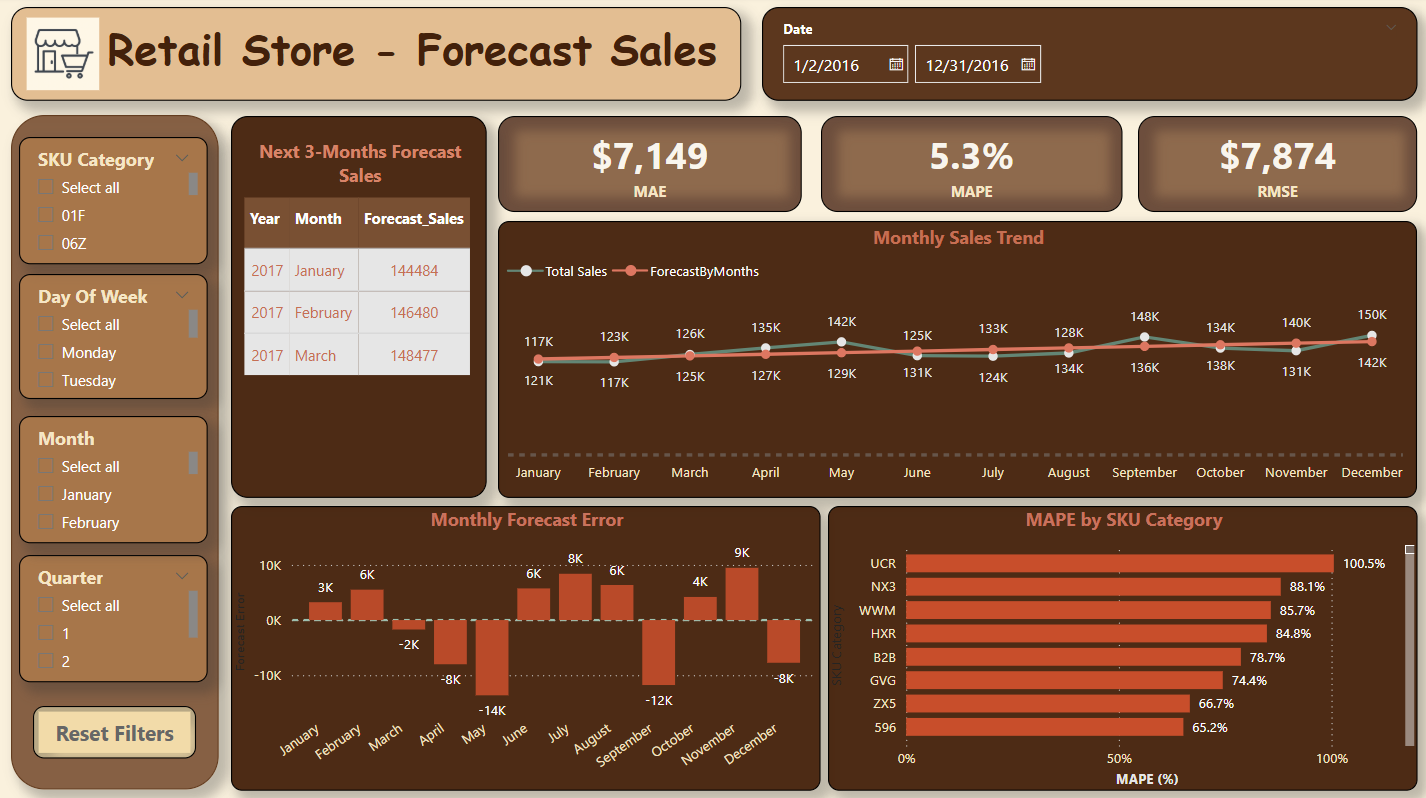

Layout of this report page (visuals, bound fields, positions):
{"tool":"powerbi","page":{"name":"Forecast Sales","canvas":[1280,720],"ordinal":1},"visuals":[{"type":"textbox","box":[11,9,654,84],"z":0},{"type":"card","fields":{"Values":["Retail_Sales.MAPE"]},"box":[736.1,106.6,269.6,86],"z":2000},{"type":"card","fields":{"Values":["Retail_Sales.MAE"]},"box":[446.9,106.6,272.2,86],"z":3000},{"type":"shape","box":[11,106,186,604],"z":4000},{"type":"slicer","fields":{"Values":["Retail_Sales.Date"]},"box":[683,9,587,84],"z":5000},{"type":"tableEx","title":"Next 3-Months Forecast Sales","fields":{"Values":["ForecastTable.Date.Variation.Date Hierarchy.Year","ForecastTable.Date.Variation.Date Hierarchy.Month","ForecastTable.Forecast_Sales"]},"box":[207.8,106.6,229.3,342.1],"z":6000},{"type":"lineChart","title":"Monthly Sales Trend","fields":{"Y":["Retail_Sales.Total Sales","ForecastTable.ForecastByMonths"],"Category":["Retail_Sales.MonthNames"]},"box":[447.2,200.5,822.8,247.7],"z":7000},{"type":"clusteredColumnChart","title":"Monthly Forecast Error","fields":{"Category":["Retail_Sales.MonthNames"],"Y":["Retail_Sales.Forecast Error"]},"box":[207.7,455.4,528,254.9],"z":8000},{"type":"slicer","fields":{"Values":["Retail_Sales.SKU Category"]},"box":[18,125,169,114],"z":9000},{"type":"slicer","fields":{"Values":["Retail_Sales.DayOfWeekName"]},"box":[18,248,169,112],"z":10000},{"type":"slicer","fields":{"Values":["Retail_Sales.Quarter"]},"box":[18,500,169,114],"z":11000},{"type":"slicer","fields":{"Values":["Retail_Sales.MonthNames"]},"box":[18,375,169,114],"z":12000},{"type":"actionButton","title":"Reset Filters","box":[30,635,146,47],"z":13000},{"type":"image","box":[11,13,92,75],"z":14000},{"type":"card","fields":{"Values":["Retail_Sales.RMSE"]},"box":[1020,106.6,249.9,86],"z":15000},{"type":"clusteredBarChart","title":"MAPE by SKU Category","fields":{"Category":["Retail_Sales.SKU Category"],"Y":["Retail_Sales.CategoryMAPE"]},"box":[742.1,455.4,528,254.9],"z":16000}]}

Visuals, with their boxes in screenshot pixels (x1, y1, x2, y2), scaled from the page's 1280x720 canvas onto the 1426x798 screenshot:
textbox: 12 10 741 103
card - Retail_Sales.MAPE: 820 118 1120 213
card - Retail_Sales.MAE: 498 118 801 213
shape: 12 117 219 787
slicer - Retail_Sales.Date: 761 10 1415 103
"Next 3-Months Forecast Sales" tableEx: 232 118 487 497
"Monthly Sales Trend" lineChart: 498 222 1415 497
"Monthly Forecast Error" clusteredColumnChart: 231 505 820 787
slicer - Retail_Sales.SKU Category: 20 139 208 265
slicer - Retail_Sales.DayOfWeekName: 20 275 208 399
slicer - Retail_Sales.Quarter: 20 554 208 681
slicer - Retail_Sales.MonthNames: 20 416 208 542
"Reset Filters" actionButton: 33 704 196 756
image: 12 14 115 98
card - Retail_Sales.RMSE: 1136 118 1415 213
"MAPE by SKU Category" clusteredBarChart: 827 505 1415 787
